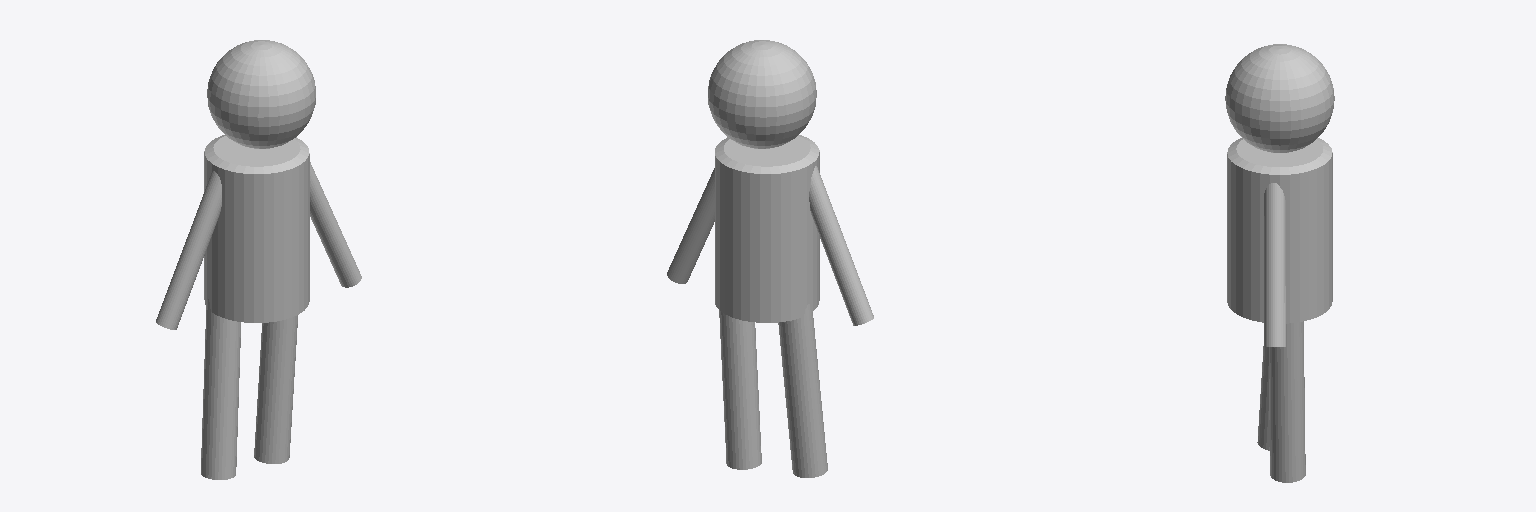
Rendered from employe.obj.
3 views of the same model, side by side, from view 1: azimuth 30°, elevation 25°; view 2: azimuth 150°, elevation 25°; view 3: azimuth 270°, elevation 25° (orthographic).
Visible parts, largest first — view 1: Cylinder.4238_Cylinder.4327; view 2: Cylinder.4238_Cylinder.4327; view 3: Cylinder.4238_Cylinder.4327.
Part boxes in pixels (left/top/right/bottom): Cylinder.4238_Cylinder.4327: left=156, top=40, right=361, bottom=479; Cylinder.4238_Cylinder.4327: left=667, top=40, right=873, bottom=477; Cylinder.4238_Cylinder.4327: left=1225, top=44, right=1334, bottom=482.
Bounding box in the file's own units: 0.4409 × 0.8681 × 0.2055.